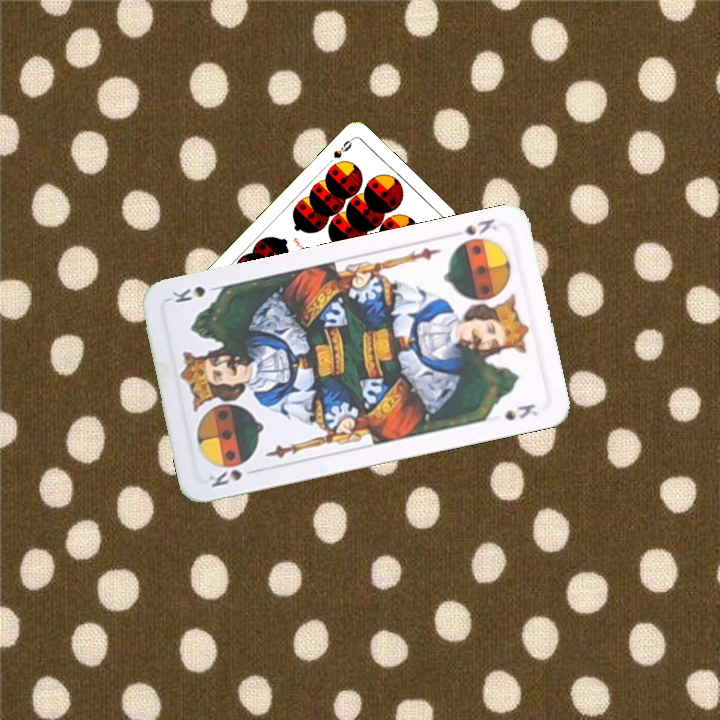S9: (329, 134, 356, 161)
SK: (204, 465, 262, 490), (460, 214, 500, 238)
